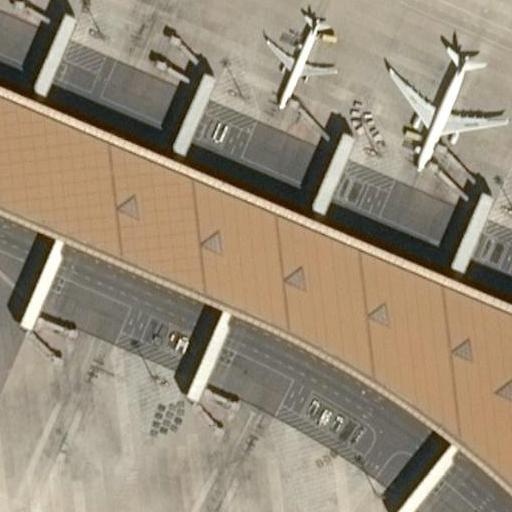Aircraft: (380, 29, 511, 168), (257, 10, 347, 111)
